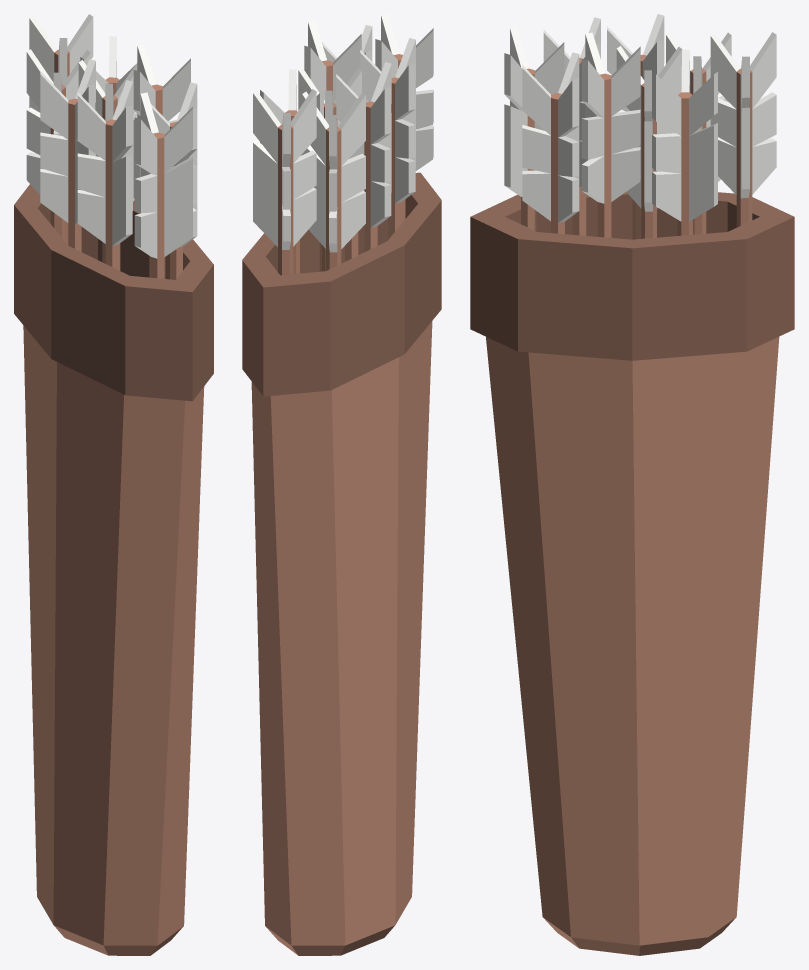
File: Quiver With Arrows.fbx
The picture shows the model from 3 angles, left to right: view 1: azimuth 30°, elevation 25°; view 2: azimuth 150°, elevation 25°; view 3: azimuth 270°, elevation 25°; orthographic projection. The views are drawn at different scales.
Visible parts, largest first — view 1: Quiver with Arrows; view 2: Quiver with Arrows; view 3: Quiver with Arrows.
Boxes of the visible parts, bbox=[...] form: Quiver with Arrows: bbox=[14, 14, 213, 955]; Quiver with Arrows: bbox=[242, 14, 441, 955]; Quiver with Arrows: bbox=[470, 14, 794, 955].
Size of the model in its own units: 15.12 by 101 by 32.88.
